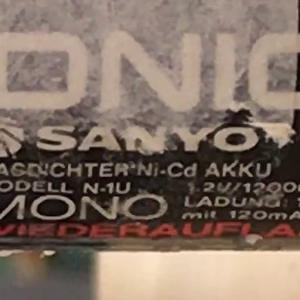NI-CD: (129, 154, 206, 180)
